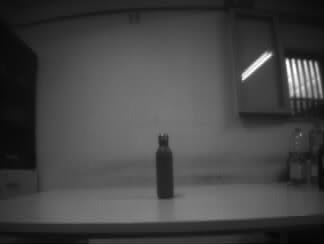Bottle: (288, 125, 309, 188), (156, 133, 174, 199)
